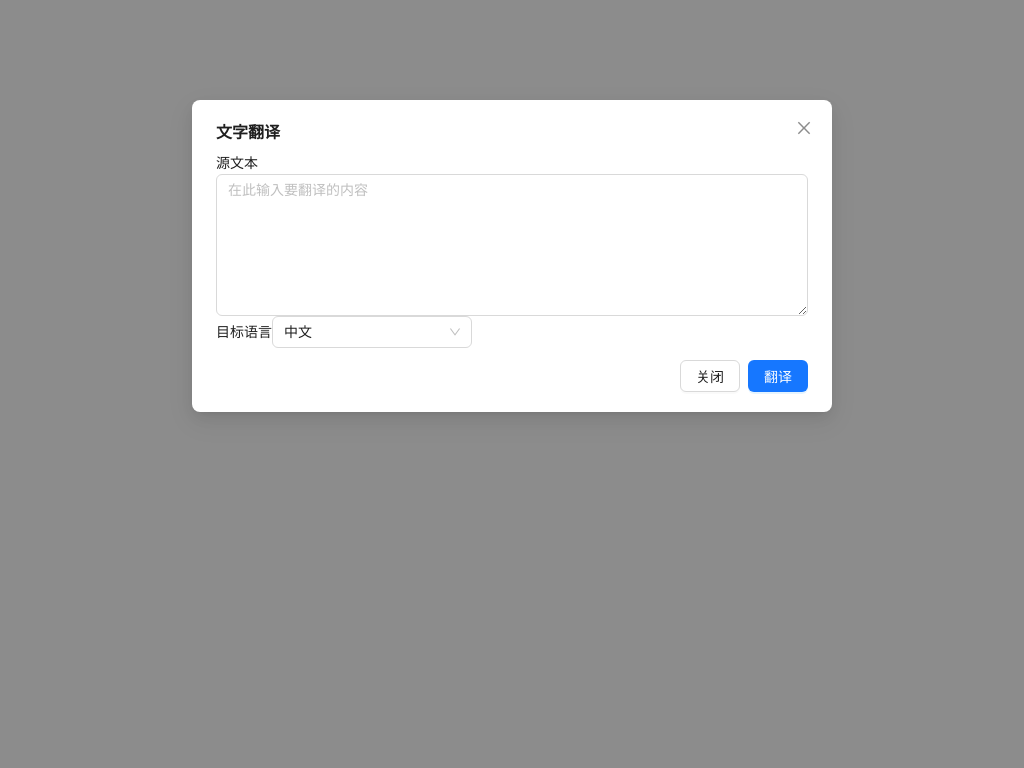
it: 文字翻译面板 › 源文本为空时提示先输入内容
Click the button "翻译" at (778,376), box x1=748 y1=360 x2=808 y2=392
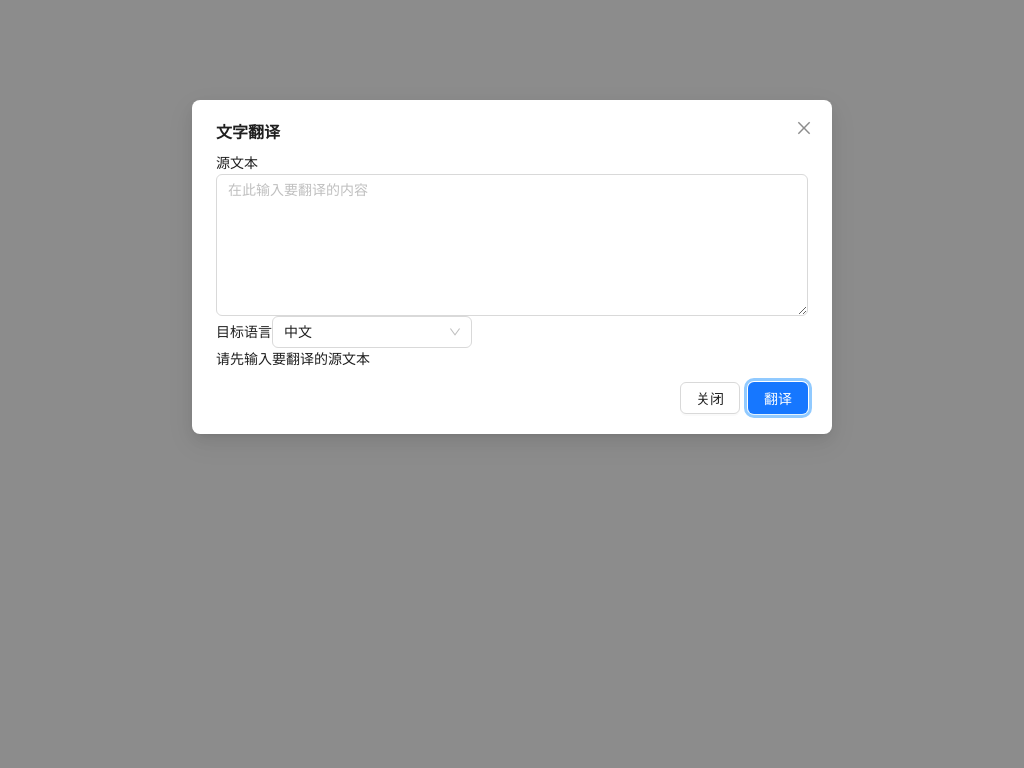
Now the text "请先输入要翻译的源文本" is shown, box x1=216 y1=350 x2=370 y2=367
